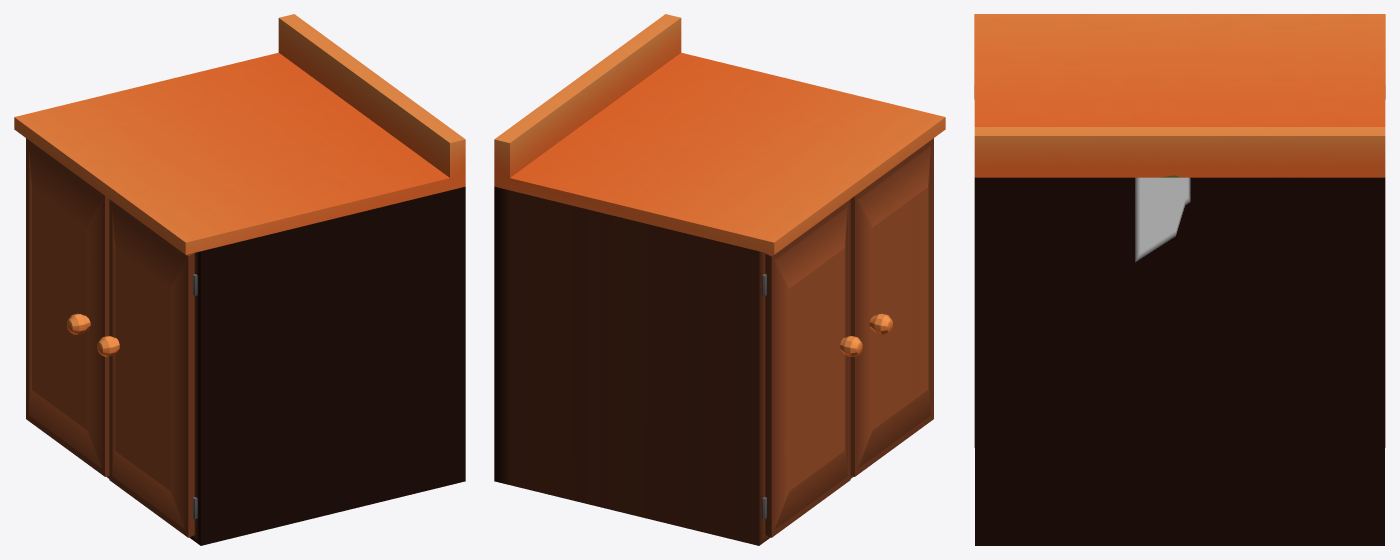
File: counter base.FBX
3 views of the same model, side by side, from view 1: azimuth 30°, elevation 25°; view 2: azimuth 150°, elevation 25°; view 3: azimuth 270°, elevation 25° (orthographic). The views are drawn at different scales.
Visible parts, largest first — view 1: counter base; view 2: counter base; view 3: counter base.
Boxes of the visible parts, box(x1,y1,x2,y2) form: counter base: box(14, 14, 465, 545); counter base: box(494, 14, 945, 545); counter base: box(974, 14, 1385, 545).
Size of the model in its own units: 69.6 by 76.61 by 69.65.
1 material, 1 textured.
